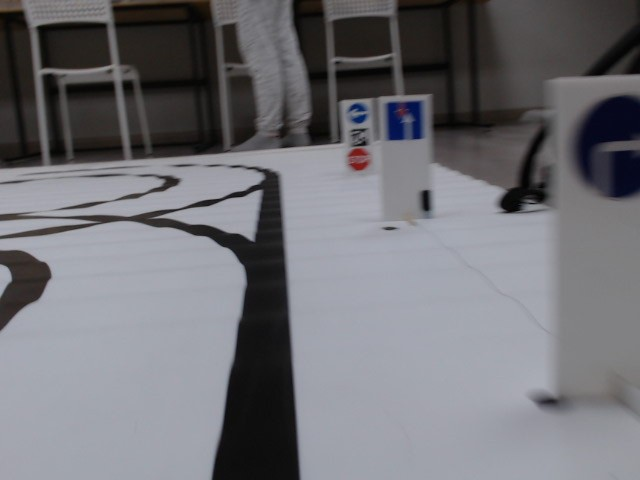Right: (570, 93, 640, 200)
Stop: (347, 149, 369, 169)
priority_movement: (383, 99, 423, 141)
